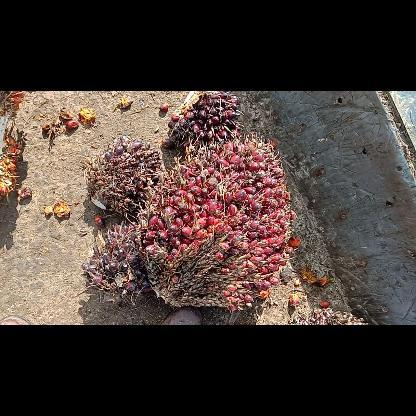TBS abnormal: (84, 136, 160, 218), (86, 219, 146, 304), (166, 91, 242, 151)
TBS masak: (148, 134, 294, 310)
